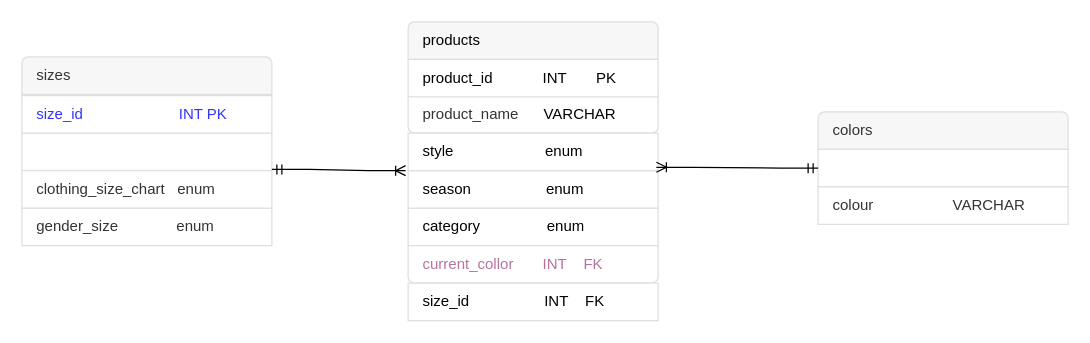
This 1090x343 diagram has some shape labels left out. The centre of each missing label's shape, as x and y in pixels:
"colour_id INT PK" belongs at pixel 942 167.
"size enum" belongs at pixel 146 151.
